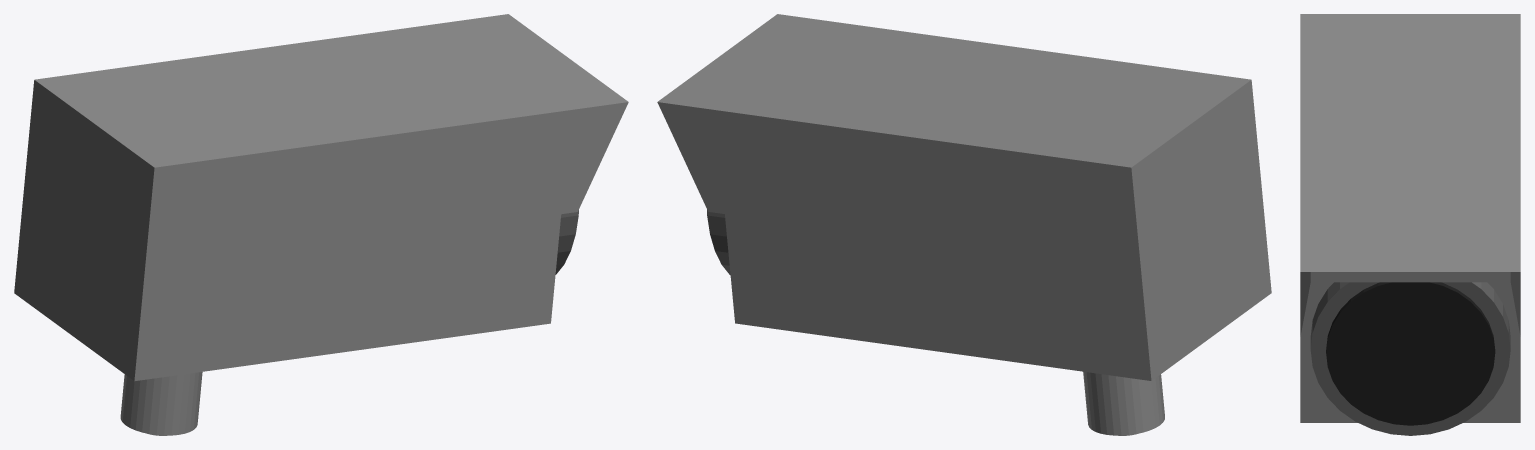
The model's file is Camera.fbx.
3 renders of one model, left to right at view 1: azimuth 30°, elevation 25°; view 2: azimuth 150°, elevation 25°; view 3: azimuth 270°, elevation 25°, orthographic. The views are drawn at different scales.
Parts seen in each view (by area): view 1: Cube; view 2: Cube; view 3: Cube.
Boxes of the visible parts, left/top/right/bottom form: Cube: left=14, top=14, right=628, bottom=435; Cube: left=657, top=14, right=1271, bottom=435; Cube: left=1300, top=14, right=1520, bottom=435.
Bounding box in the file's own units: 523 × 325 × 220.
Materials: 1 (1 with a texture image).
